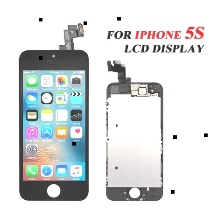phone: (15, 45, 90, 203), (101, 77, 165, 203)
